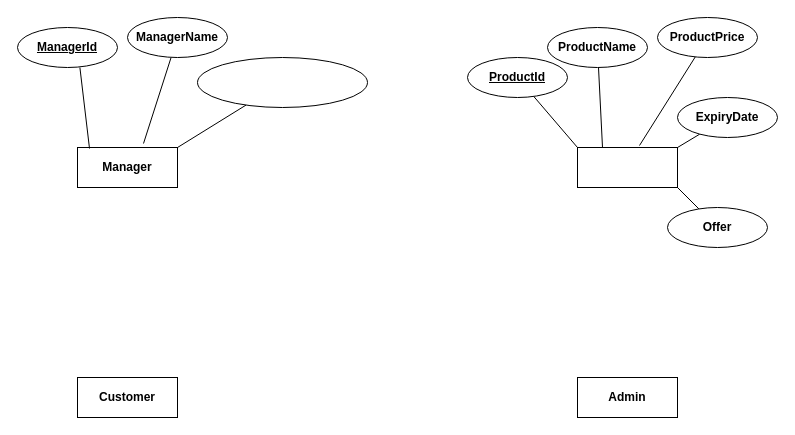
Image size: 795x435. Some labels were removed from this diagram. The shapes that lost their labels are listed below. From the top down, each one's centre as x and y in pixels, then its label:
pixel 282 82: IsInventoryAvailable
pixel 627 167: Product
